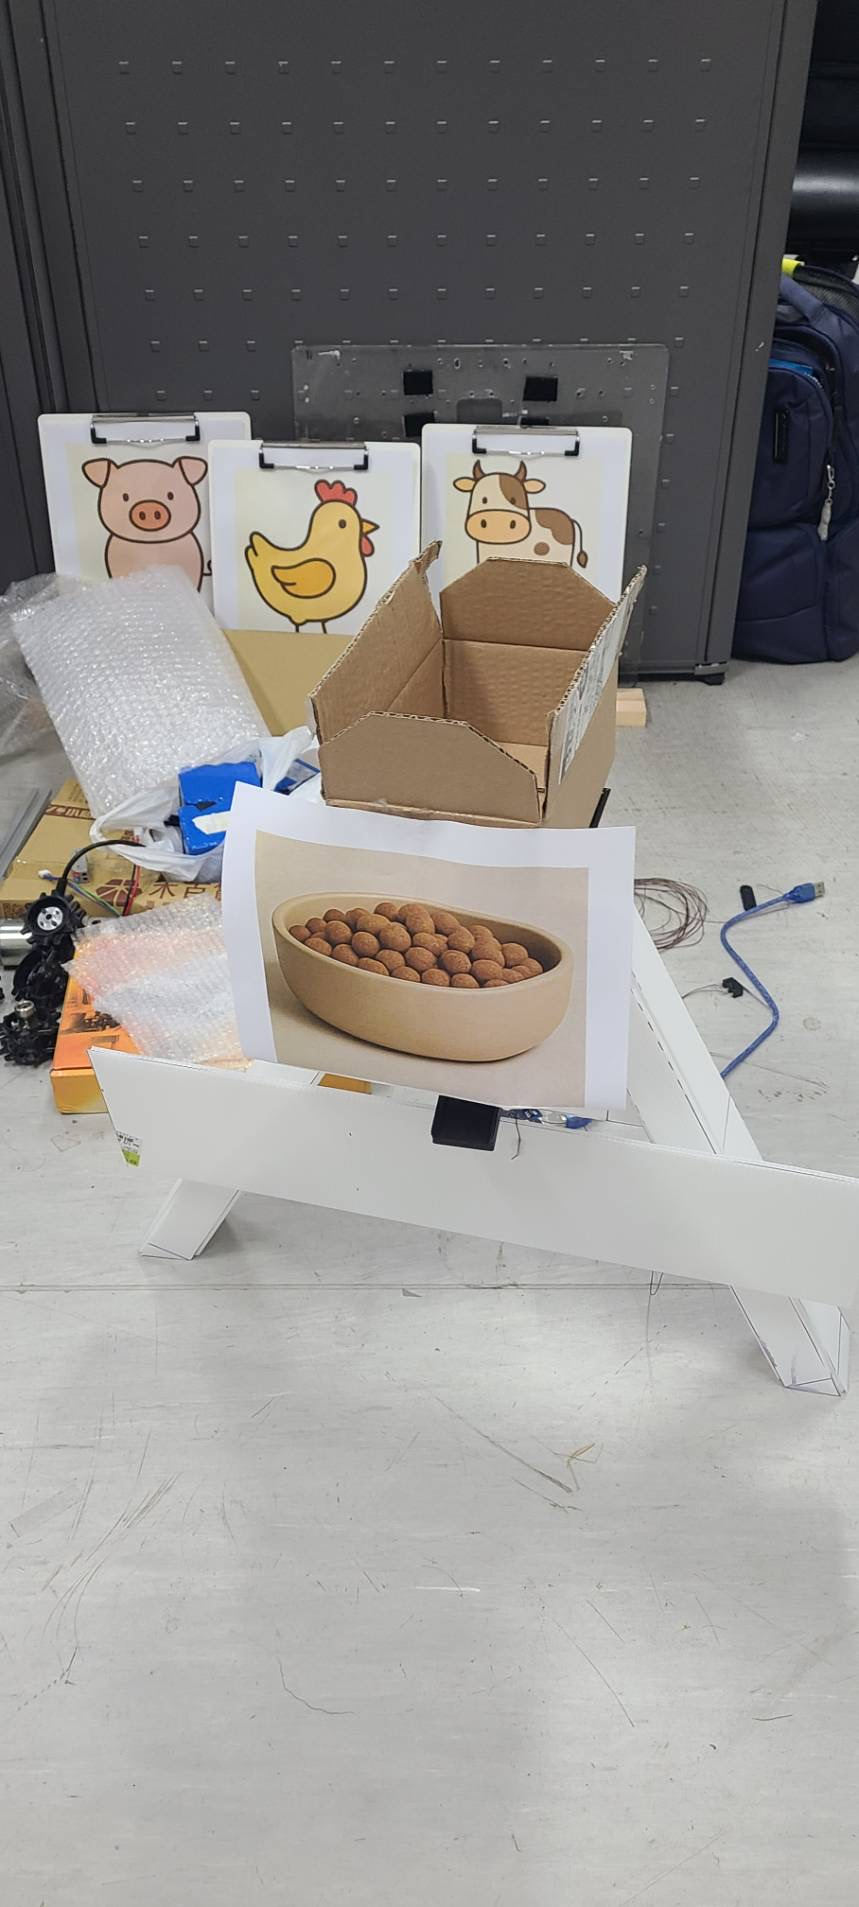machine: (259, 871, 562, 1042)
